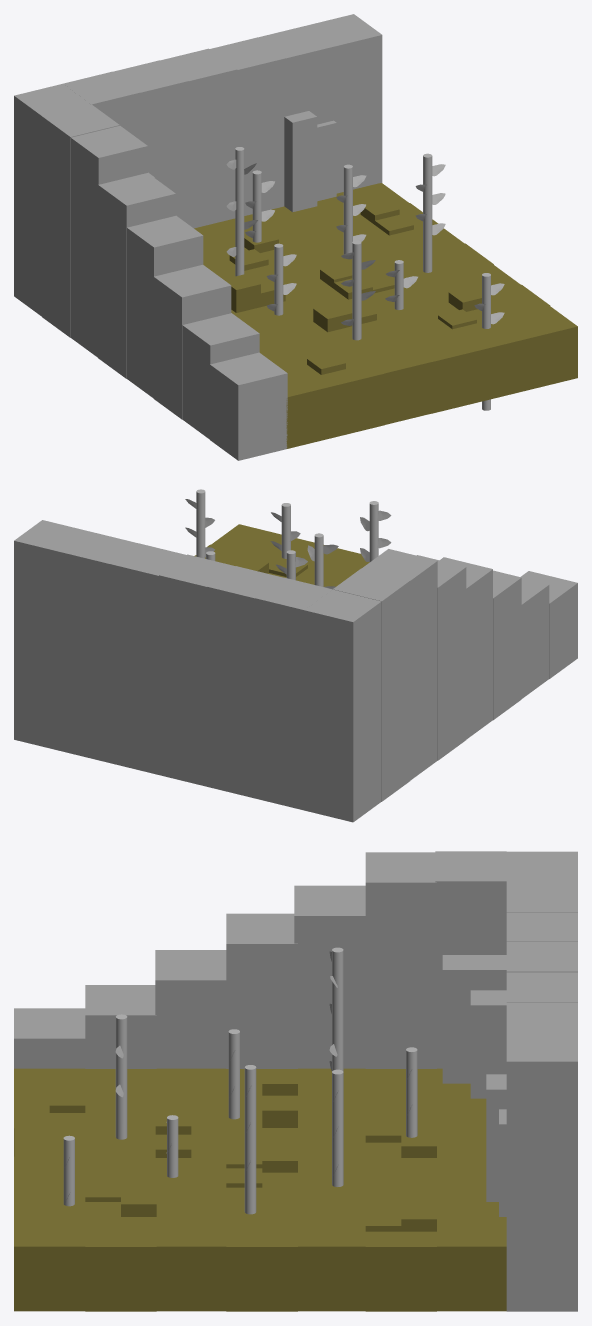
The model's file is OceanEn.fbx.
The picture shows the model from 3 angles, top to bottom: view 1: azimuth 30°, elevation 25°; view 2: azimuth 150°, elevation 25°; view 3: azimuth 270°, elevation 25°; orthographic projection. The views are drawn at different scales.
Parts seen in each view (by area): view 1: pasted__pCube1 (×7), pasted__pasted__pCube1 (×11), pasted__pasted__pasted__pCube1 (×7), pDisc3, pCube1, pasted__pasted__pCylinder1 (×4), pasted__pCylinder1 (×2), pCylinder1; view 2: pasted__pCube1 (×6), pasted__pasted__pCube1 (×5), pasted__pasted__pasted__pCube1 (×3), pCube1, pDisc3, pasted__pasted__pCylinder1 (×2), pasted__pCylinder1, pCylinder1; view 3: pasted__pasted__pCube1 (×12), pDisc3, pasted__pCube1 (×7), pasted__pasted__pasted__pCube1 (×7), pasted__pasted__pCylinder1 (×4), pasted__pCylinder1 (×3), pCube1, pCylinder1.
Part boxes in pixels (x1,y1,x2,y2): pasted__pCube1 (×7): [14, 14, 382, 316]; pasted__pasted__pCube1 (×11): [42, 104, 528, 439]; pasted__pasted__pasted__pCube1 (×7): [98, 173, 577, 460]; pDisc3: [194, 183, 573, 395]; pCube1: [161, 48, 237, 228]; pasted__pasted__pCylinder1 (×4): [252, 153, 490, 410]; pasted__pCylinder1 (×2): [343, 164, 361, 340]; pCylinder1: [235, 147, 244, 276]; pasted__pCube1 (×6): [14, 520, 381, 822]; pasted__pasted__pCube1 (×5): [232, 549, 549, 801]; pasted__pasted__pasted__pCube1 (×3): [416, 555, 577, 760]; pCube1: [159, 554, 234, 786]; pDisc3: [205, 525, 369, 586]; pasted__pasted__pCylinder1 (×2): [196, 489, 290, 558]; pasted__pCylinder1: [369, 501, 378, 561]; pCylinder1: [314, 533, 323, 586]; pasted__pasted__pCube1 (×12): [85, 851, 506, 1311]; pDisc3: [16, 1068, 506, 1244]; pasted__pCube1 (×7): [365, 851, 577, 1311]; pasted__pasted__pasted__pCube1 (×7): [14, 885, 365, 1311]; pasted__pasted__pCylinder1 (×4): [63, 1029, 417, 1214]; pasted__pCylinder1 (×3): [115, 1014, 343, 1186]; pCube1: [506, 942, 577, 972]; pCylinder1: [332, 947, 343, 1071].
Size of the model in its own units: 85.58 by 56.95 by 97.91.
